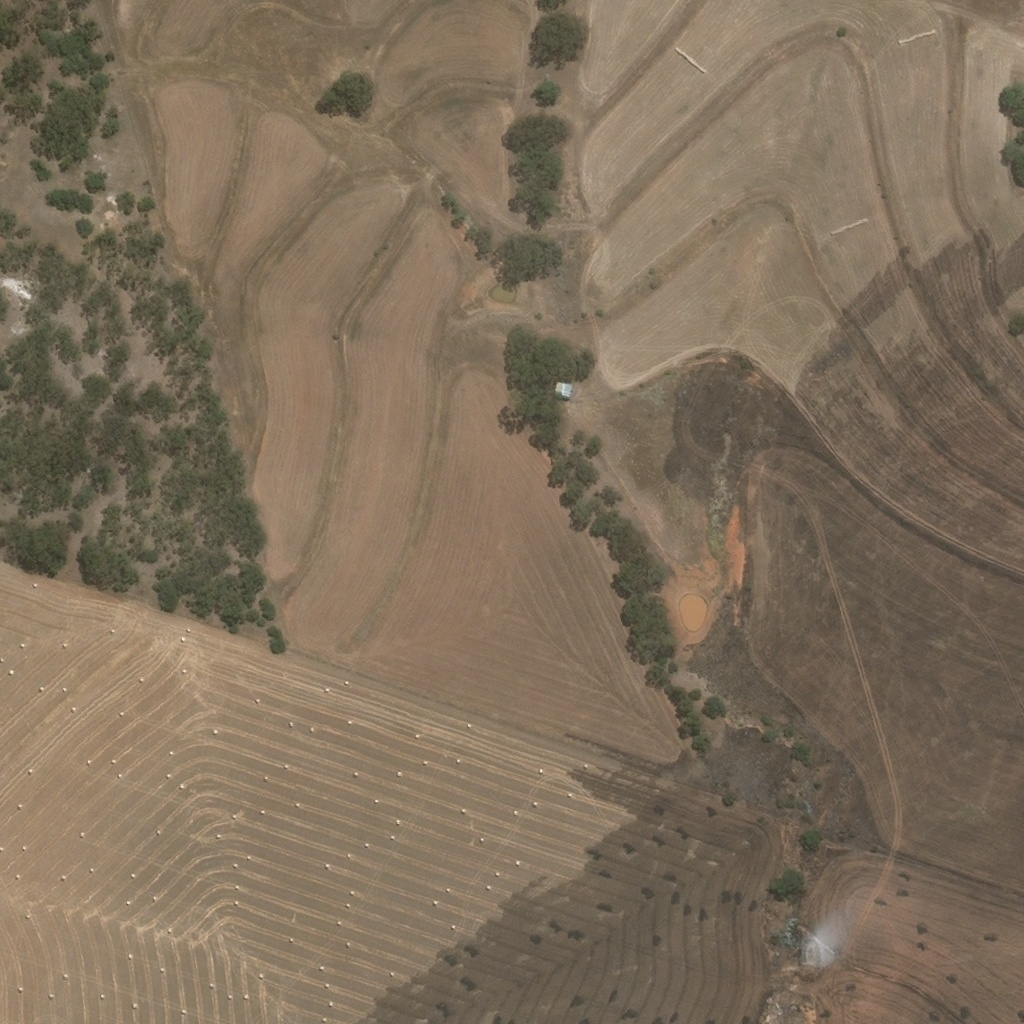0 no-damage: (556, 377, 574, 398)
